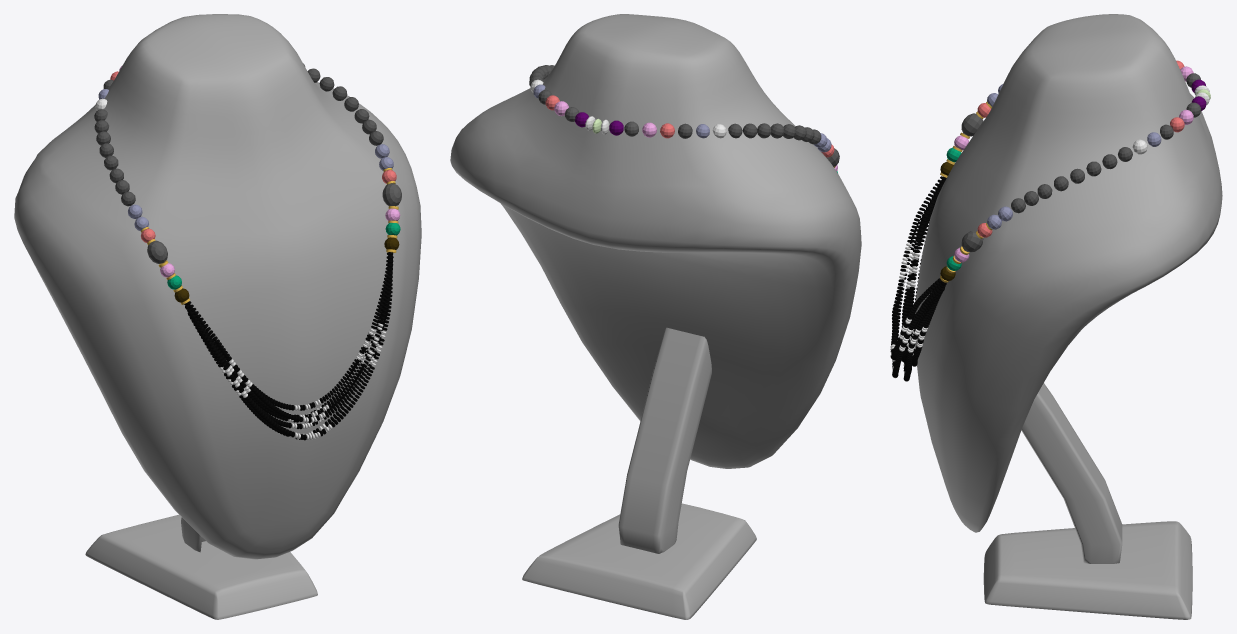
File: EDKRAF-05_Crystal Juntai Black.fbx
3 views of the same model, side by side, from view 1: azimuth 30°, elevation 25°; view 2: azimuth 150°, elevation 25°; view 3: azimuth 270°, elevation 25° (orthographic).
Visible parts, largest first — view 1: stand, polySurface33, TOP; view 2: stand, TOP; view 3: stand, TOP, polySurface33.
Boxes of the visible parts, bbox=[...] form: stand: bbox=[14, 14, 421, 619]; polySurface33: bbox=[184, 252, 393, 440]; TOP: bbox=[94, 63, 401, 304]; stand: bbox=[450, 14, 861, 619]; TOP: bbox=[529, 65, 839, 172]; stand: bbox=[915, 14, 1222, 619]; TOP: bbox=[940, 60, 1210, 282]; polySurface33: bbox=[890, 176, 946, 381].
Size of the model in its own units: 43.15 by 59.94 by 33.15.
